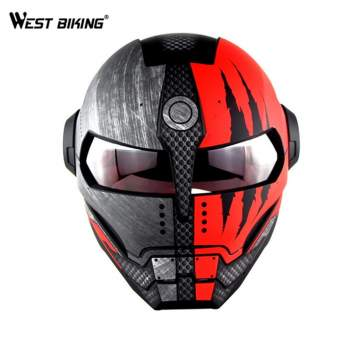with_helmet: (72, 33, 294, 310)
